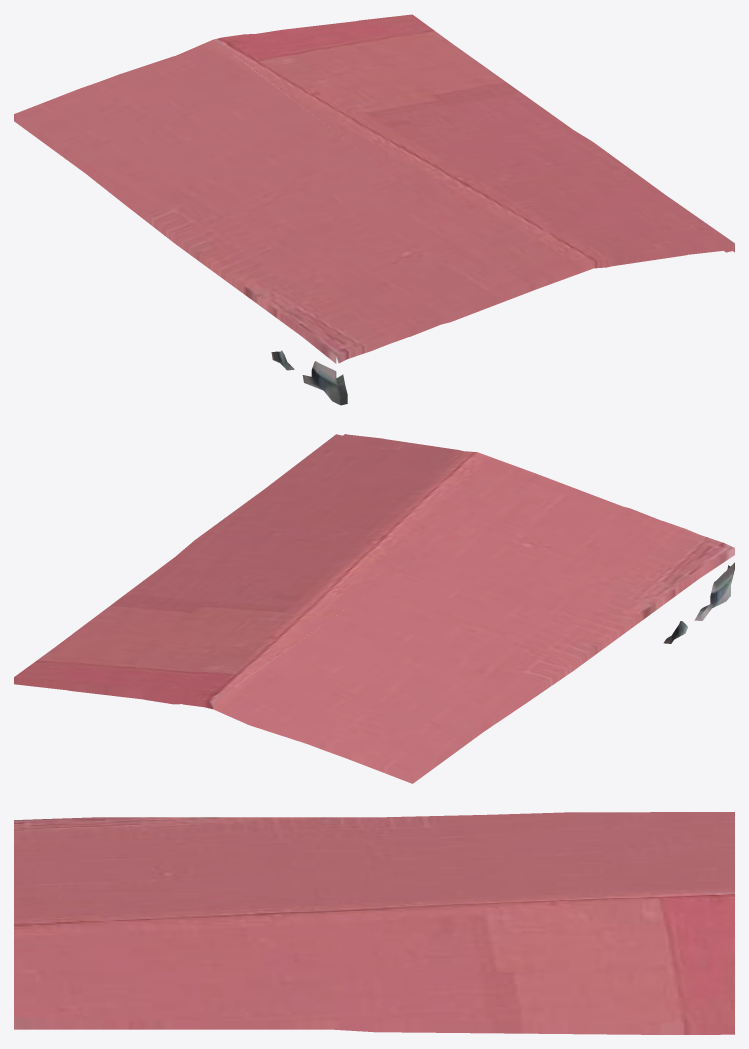
3 renders of one model, top to bottom at view 1: azimuth 30°, elevation 25°; view 2: azimuth 150°, elevation 25°; view 3: azimuth 270°, elevation 25°, orthographic. The views are drawn at different scales.
Parts seen in each view (by area): view 1: 30436272704361535526_0; view 2: 30436272704361535526_0; view 3: 30436272704361535526_0.
Part boxes in pixels (<box>): 30436272704361535526_0: <box>14,14,734,405</box>; 30436272704361535526_0: <box>14,434,734,783</box>; 30436272704361535526_0: <box>14,812,734,1034</box>.
Size of the model in its own units: 27.32 by 5.4 by 38.26.
Materials: 1 (1 with a texture image).
